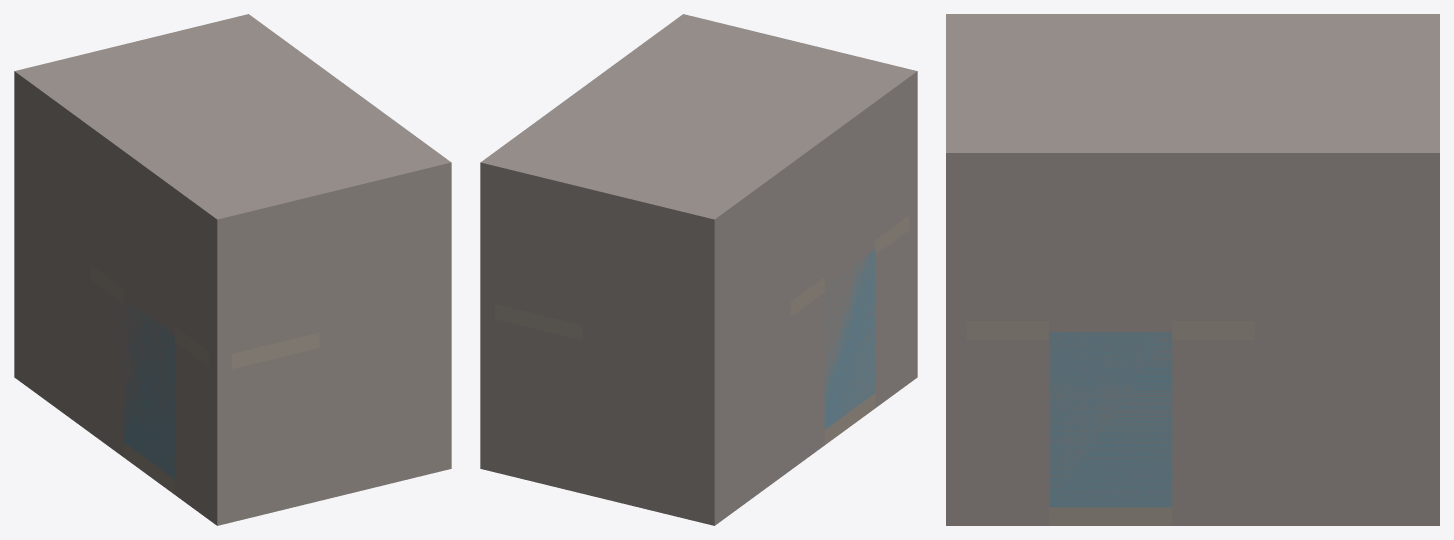
Rendered from creek-ford-mirror.glb.
3 views of the same model, side by side, from view 1: azimuth 30°, elevation 25°; view 2: azimuth 150°, elevation 25°; view 3: azimuth 270°, elevation 25° (orthographic). The views are drawn at different scales.
Parts seen in each view (by area): view 1: rock_33, rock_8, rock_28, plug_creek_west, rock_20, plug_south, water_1, plug_creek_west.001, rock_14, rock_18, rock_7, rock_5 (+17 smaller); view 2: rock_33, rock_1, rock_21, rock_9, plug_creek_west, plug_north, water_1, rock_14, rock_18, plug_creek_west.001, rock_6, rock_4 (+16 smaller); view 3: rock_33, rock_2, plug_creek_east, rock_22, water_2, rock_15, rock_19, plug_creek_east.001, rock_32, rock_8, rock_28, cave-floor_2 (+2 smaller).
Boxes of the visible parts, bbox=[...] form: rock_33: bbox=[14, 14, 451, 234]; rock_8: bbox=[319, 300, 451, 500]; rock_28: bbox=[319, 178, 451, 332]; plug_creek_west: bbox=[90, 158, 208, 350]; rock_20: bbox=[232, 351, 304, 522]; plug_south: bbox=[232, 240, 319, 353]; water_1: bbox=[124, 302, 174, 479]; plug_creek_west.001: bbox=[124, 289, 174, 478]; rock_14: bbox=[90, 280, 124, 457]; rock_18: bbox=[175, 342, 208, 519]; rock_7: bbox=[209, 351, 231, 525]; rock_5: bbox=[56, 240, 73, 420]; rock_33: bbox=[480, 14, 917, 234]; rock_1: bbox=[583, 325, 722, 525]; rock_21: bbox=[583, 203, 722, 357]; rock_9: bbox=[495, 319, 582, 493]; plug_creek_west: bbox=[790, 108, 908, 301]; plug_north: bbox=[495, 212, 582, 325]; water_1: bbox=[824, 249, 875, 429]; rock_14: bbox=[790, 292, 824, 469]; rock_18: bbox=[875, 231, 908, 407]; plug_creek_west.001: bbox=[824, 240, 875, 421]; rock_6: bbox=[774, 302, 790, 482]; rock_4: bbox=[740, 327, 756, 506]; rock_33: bbox=[946, 14, 1439, 171]; rock_2: bbox=[1254, 321, 1439, 525]; plug_creek_east: bbox=[966, 190, 1254, 320]; rock_22: bbox=[1254, 171, 1439, 320]; water_2: bbox=[1049, 332, 1172, 507]; rock_15: bbox=[1172, 339, 1254, 525]; rock_19: bbox=[966, 339, 1048, 525]; plug_creek_east.001: bbox=[1049, 321, 1172, 506]; rock_32: bbox=[966, 171, 1254, 190]; rock_8: bbox=[946, 321, 966, 525]; rock_28: bbox=[946, 171, 966, 320]; cave-floor_2: bbox=[1049, 507, 1172, 525].
Bounding box in the file's own units: 8 × 10 × 12.
